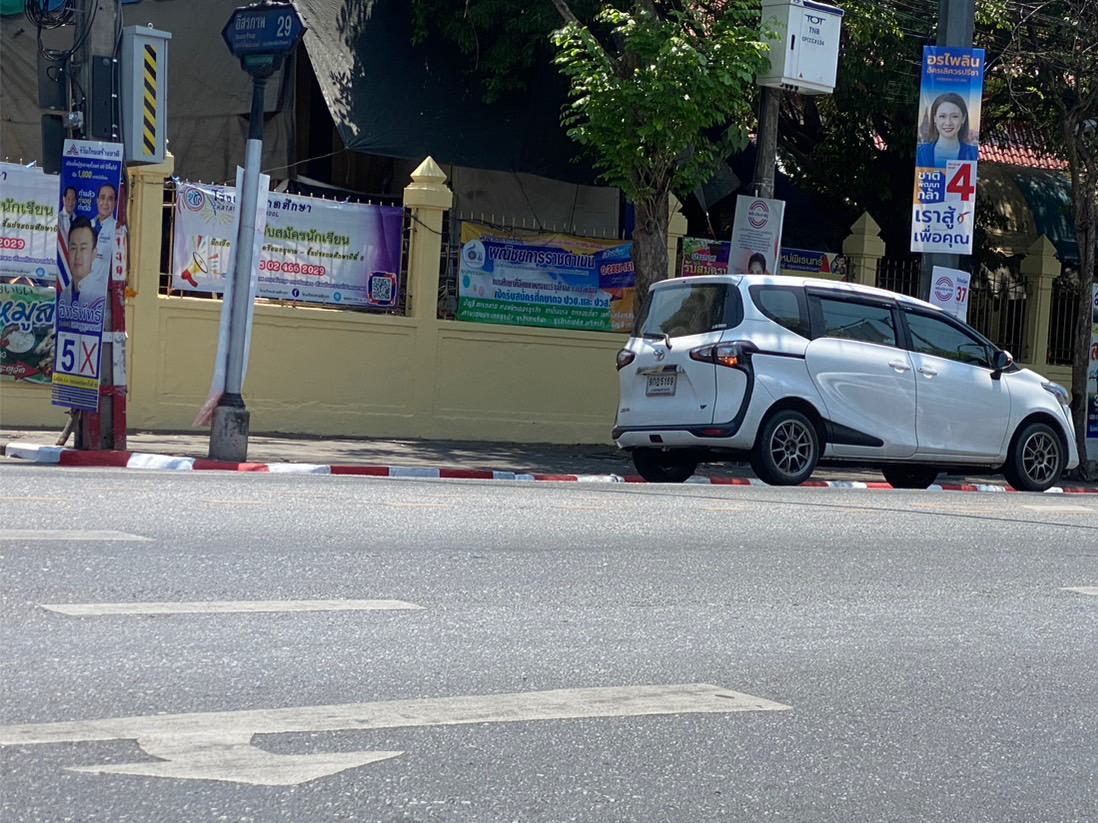Banner: (49, 125, 110, 415), (908, 33, 983, 264)
